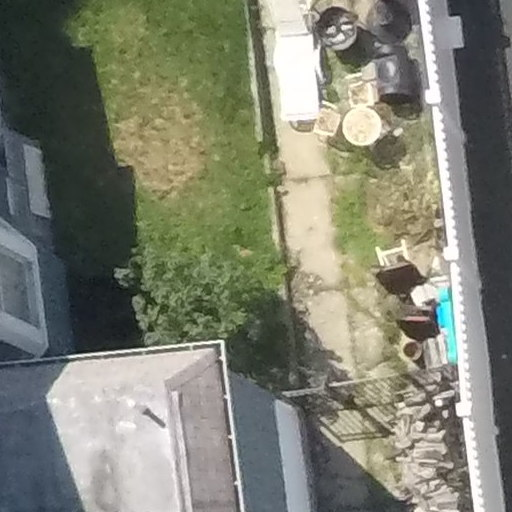container: (339, 103, 384, 151), (396, 337, 423, 361)
fence: (415, 1, 510, 512), (282, 365, 461, 418)
gutter: (1, 336, 228, 375), (212, 343, 254, 512)
trash bin: (369, 41, 415, 110), (310, 6, 363, 52)
